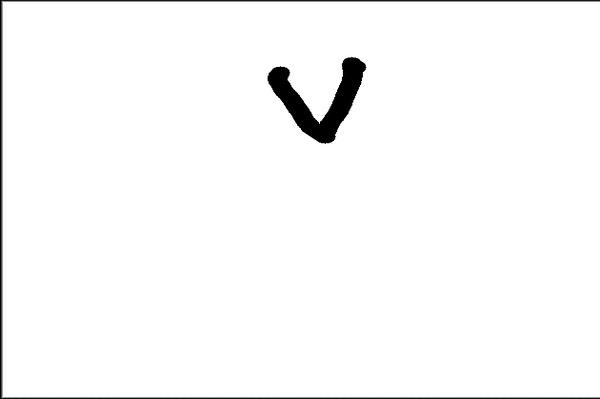V: (259, 48, 384, 148)
